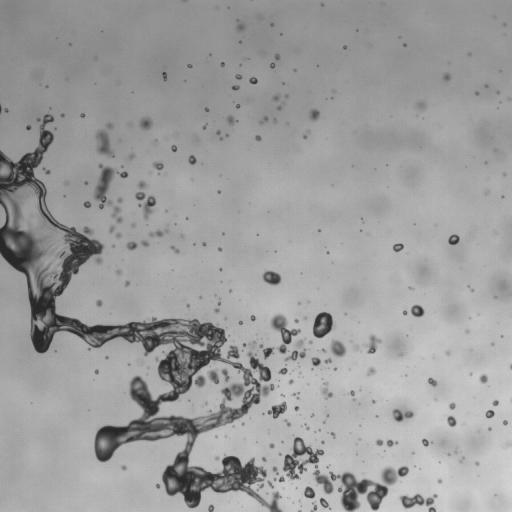droplet: (259, 313, 300, 358), (94, 164, 127, 208), (313, 312, 335, 338), (135, 192, 156, 219), (267, 401, 286, 418), (365, 334, 381, 353), (262, 270, 281, 285), (330, 340, 346, 357), (111, 206, 122, 223), (321, 382, 332, 398), (411, 304, 424, 317), (140, 117, 152, 130), (303, 486, 315, 498), (309, 109, 319, 121), (221, 368, 230, 381), (448, 234, 459, 244), (319, 498, 330, 508), (226, 115, 236, 125), (153, 161, 163, 171), (447, 416, 456, 426), (126, 242, 137, 250), (386, 439, 397, 447), (428, 377, 437, 386), (393, 243, 403, 251), (188, 155, 196, 164), (312, 357, 320, 366), (367, 367, 376, 375), (479, 374, 487, 383), (485, 410, 494, 418), (0, 105, 8, 113), (416, 102, 425, 109), (278, 367, 287, 374), (310, 502, 317, 511), (274, 476, 284, 482), (443, 73, 450, 81), (249, 77, 257, 84), (138, 181, 146, 188), (171, 246, 179, 253), (422, 438, 429, 446), (237, 24, 244, 31), (272, 466, 278, 474), (43, 168, 50, 174), (83, 201, 90, 207), (109, 225, 115, 232), (141, 240, 148, 246), (284, 419, 290, 426), (376, 439, 383, 445), (96, 300, 102, 306), (348, 390, 354, 396), (492, 400, 498, 406), (449, 403, 455, 409), (267, 481, 273, 487), (235, 74, 242, 79), (232, 85, 239, 90), (26, 124, 31, 130), (171, 145, 176, 151), (129, 153, 134, 159), (117, 197, 122, 203), (116, 232, 121, 238), (325, 358, 331, 363), (292, 392, 298, 397), (208, 505, 213, 511), (270, 63, 275, 68), (273, 95, 278, 100), (107, 123, 112, 128), (255, 135, 260, 140), (116, 269, 121, 274), (250, 315, 255, 320), (288, 379, 293, 384), (502, 420, 507, 425), (269, 443, 274, 448), (121, 465, 126, 470), (275, 54, 279, 59), (125, 281, 129, 286), (469, 287, 473, 292), (214, 308, 219, 312), (354, 345, 359, 349), (331, 432, 335, 437), (506, 442, 511, 446), (220, 62, 224, 66), (80, 113, 84, 117), (202, 125, 206, 129), (202, 242, 206, 246), (403, 310, 407, 314), (294, 319, 298, 323), (294, 406, 298, 410), (215, 456, 219, 460), (262, 457, 266, 461), (437, 479, 441, 483), (156, 484, 160, 488), (343, 45, 346, 49), (236, 104, 239, 108), (278, 106, 281, 110), (61, 113, 64, 117), (216, 131, 220, 134), (303, 134, 306, 138), (218, 247, 221, 251), (321, 349, 325, 352), (446, 350, 449, 354), (399, 352, 402, 356), (95, 369, 98, 373), (475, 461, 478, 465), (188, 64, 191, 67), (475, 92, 478, 95), (205, 108, 208, 111), (132, 223, 135, 226), (409, 286, 412, 289), (239, 321, 242, 324), (309, 340, 312, 343), (488, 428, 491, 430), (321, 441, 324, 443), (271, 23, 273, 25), (274, 119, 276, 121), (226, 134, 228, 136), (85, 182, 87, 184), (218, 190, 220, 192), (220, 268, 222, 270), (218, 302, 220, 304), (187, 305, 189, 307), (466, 330, 468, 332), (281, 394, 283, 396), (327, 414, 329, 416), (460, 459, 462, 461)
ligament: (0, 118, 282, 511), (283, 437, 409, 511), (399, 494, 437, 511), (95, 129, 114, 157), (285, 338, 306, 361), (392, 409, 413, 421), (149, 230, 166, 237), (260, 116, 267, 123), (303, 424, 309, 429), (163, 72, 166, 80), (510, 364, 511, 368)
